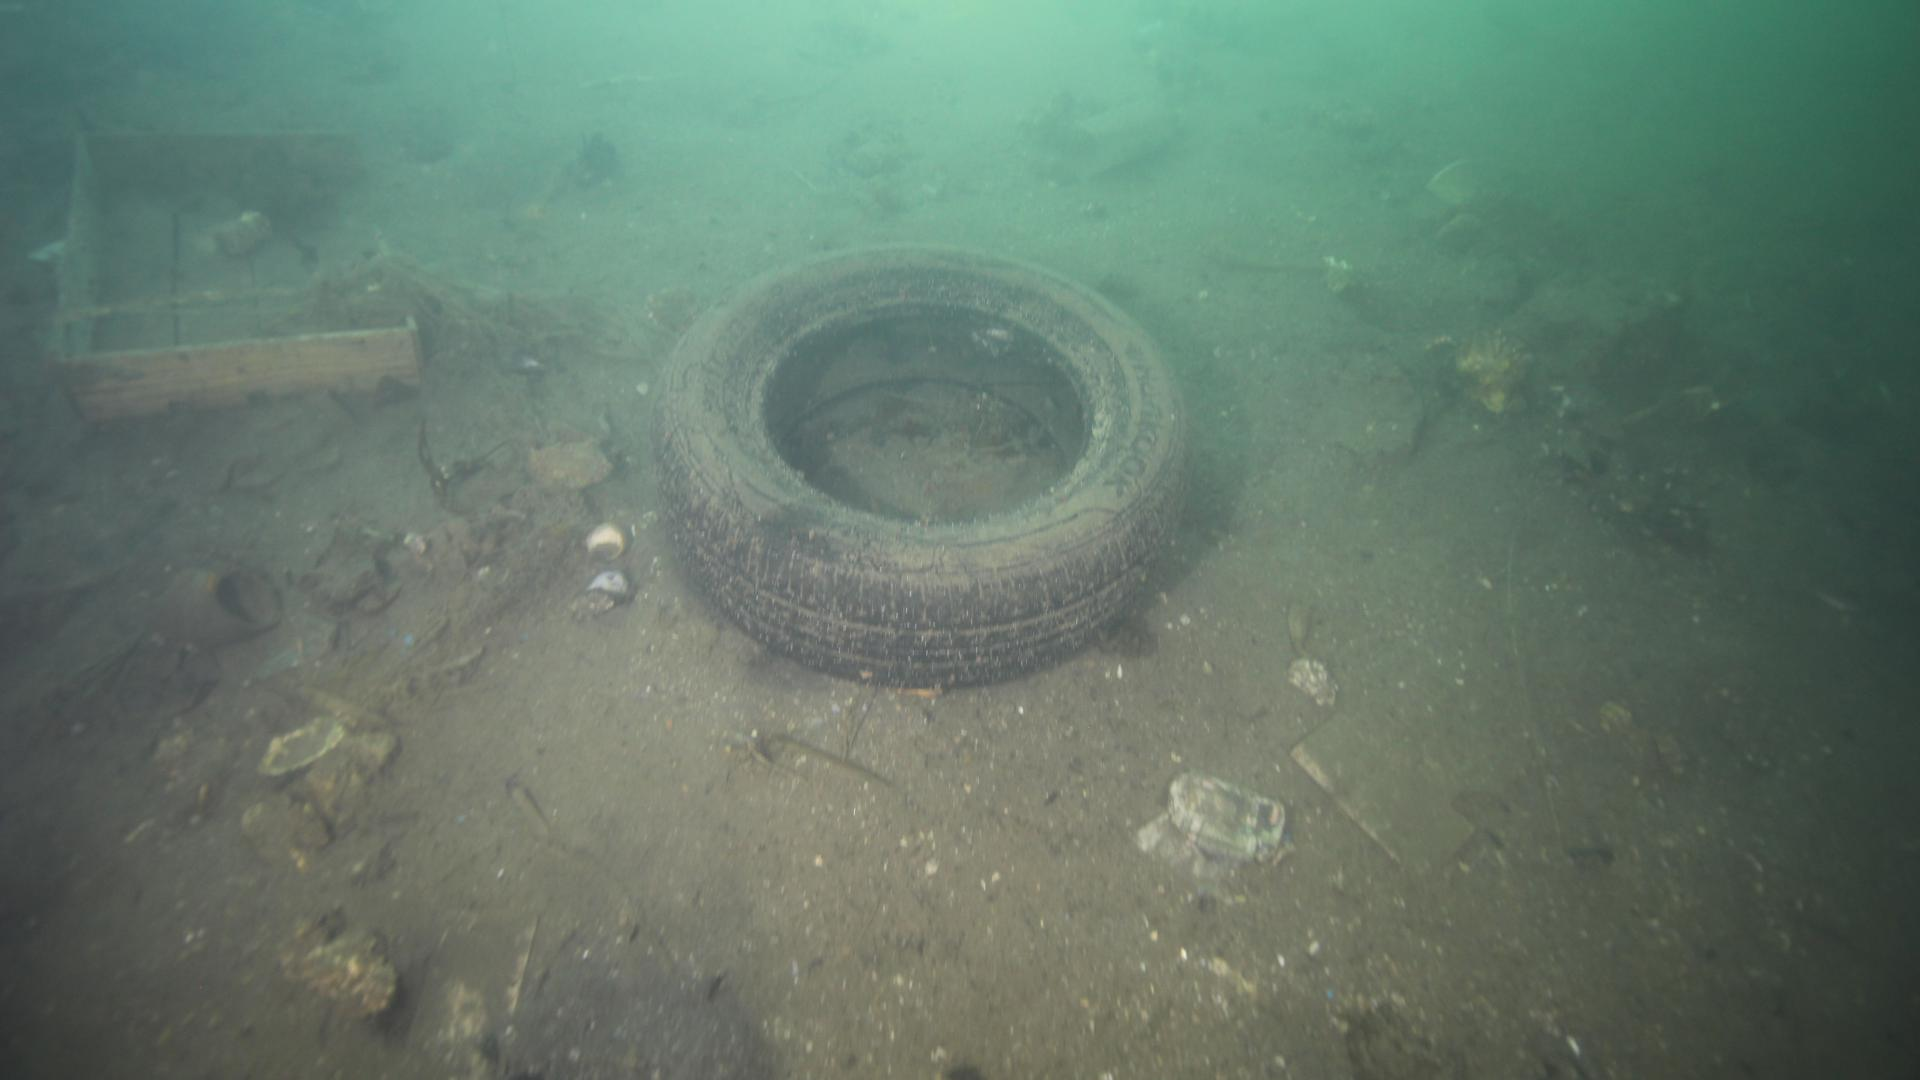tire: (649, 233, 1187, 683)
